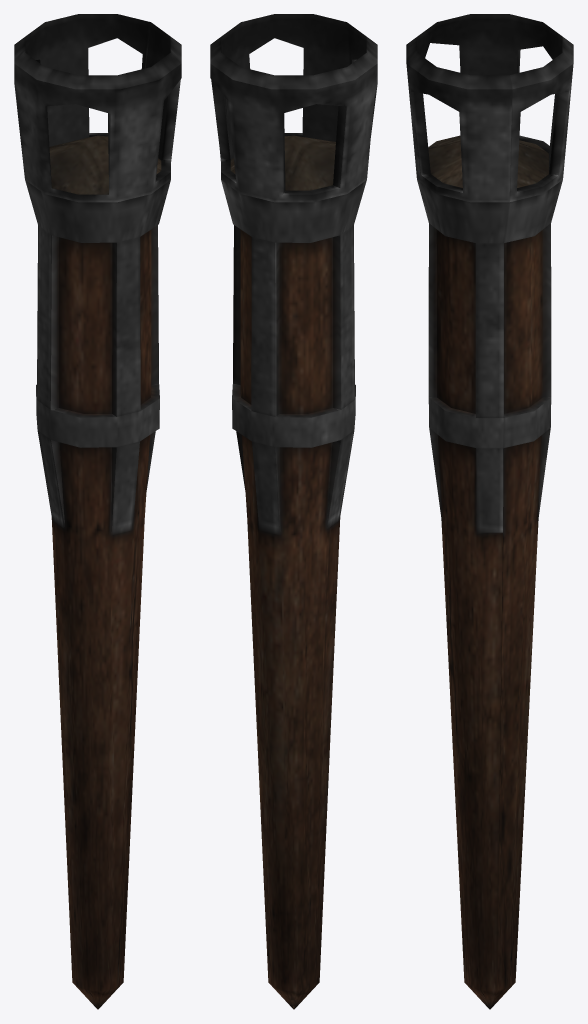
File: torch_single.FBX
The picture shows the model from 3 angles, left to right: view 1: azimuth 30°, elevation 25°; view 2: azimuth 150°, elevation 25°; view 3: azimuth 270°, elevation 25°; orthographic projection.
Parts seen in each view (by area): view 1: torch_single; view 2: torch_single; view 3: torch_single.
Boxes of the visible parts, x1,y1,x2,y2 form: torch_single: (14, 14, 181, 1009); torch_single: (210, 14, 377, 1009); torch_single: (406, 14, 573, 1009).
Size of the model in its own units: 0.1987 by 1.27 by 0.1987.
1 material, 1 textured.
